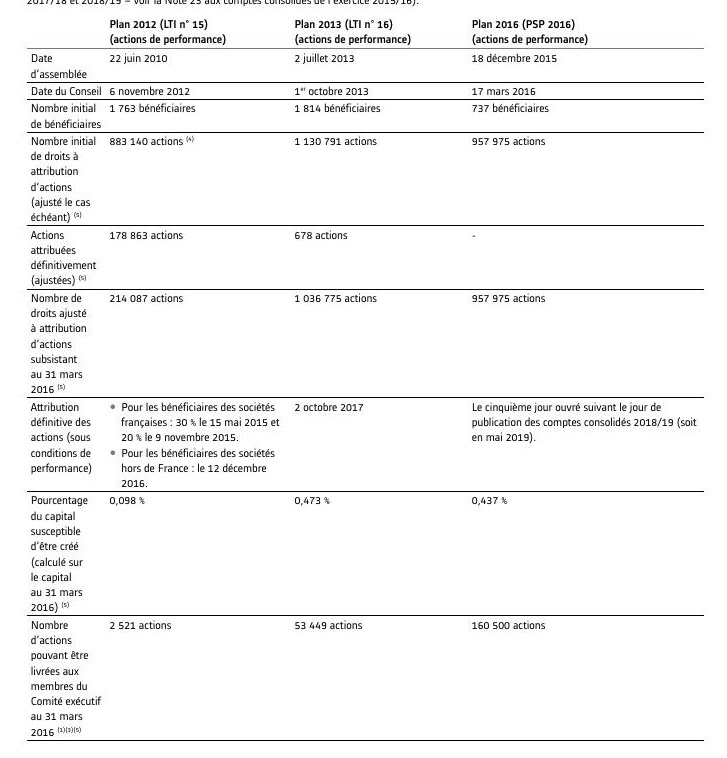table: (0, 0, 727, 758)
